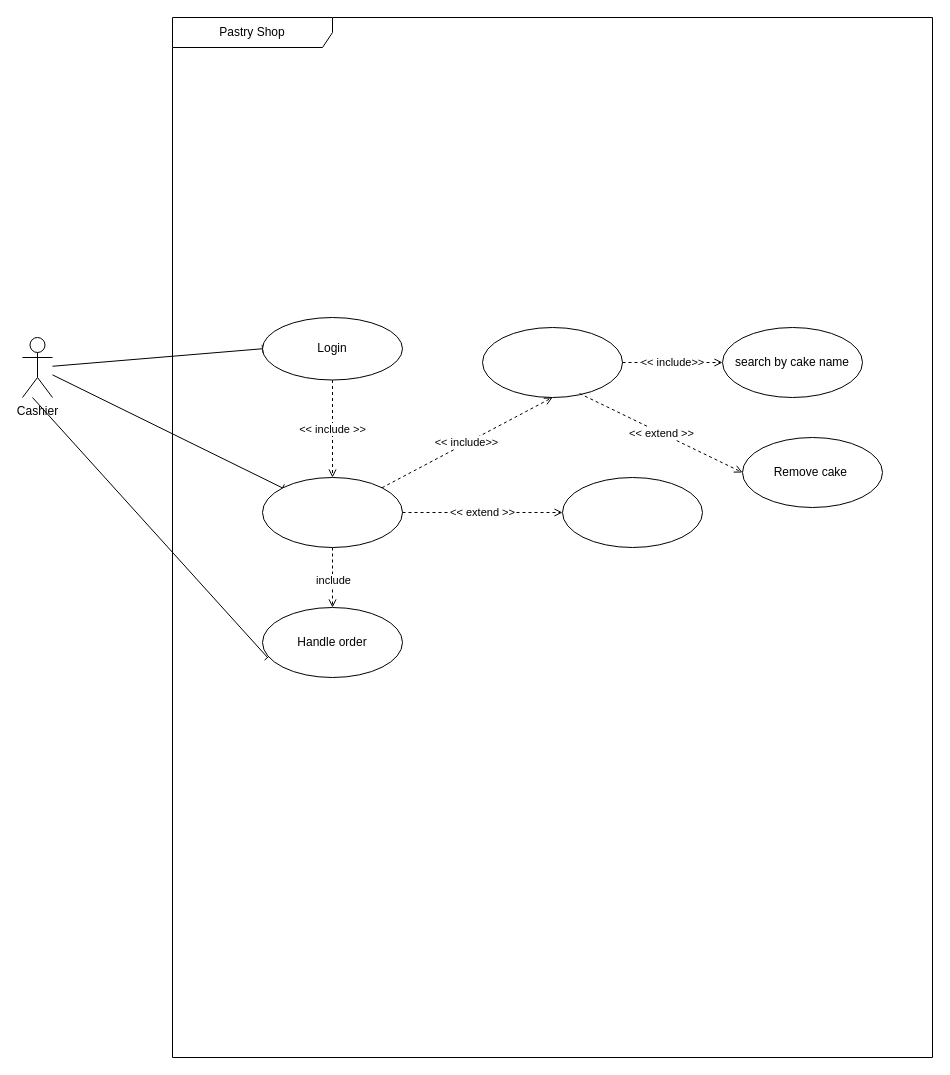
Some shapes in this 950 by 1075 pixel diagram are drawn without their labels. The centre of each missing label's shape, as x and y in pixels:
Add cake: the point at 552,362
Cancel order: the point at 632,512
Create order: the point at 332,512
